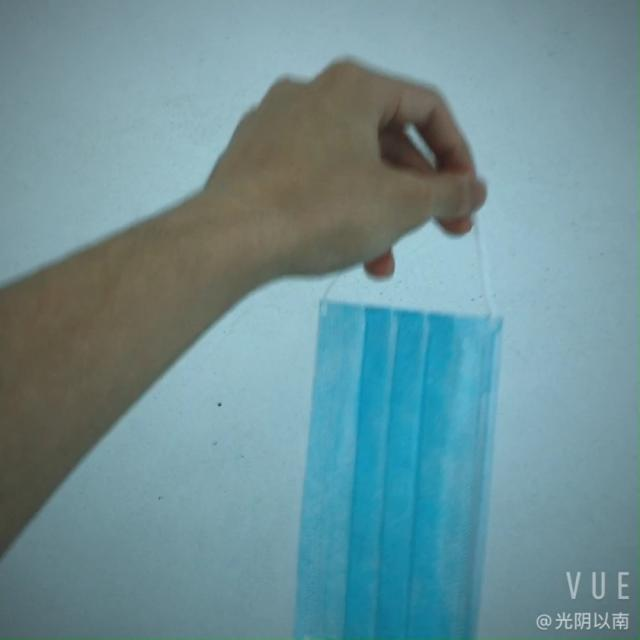non-organic waste: (260, 267, 503, 637)
